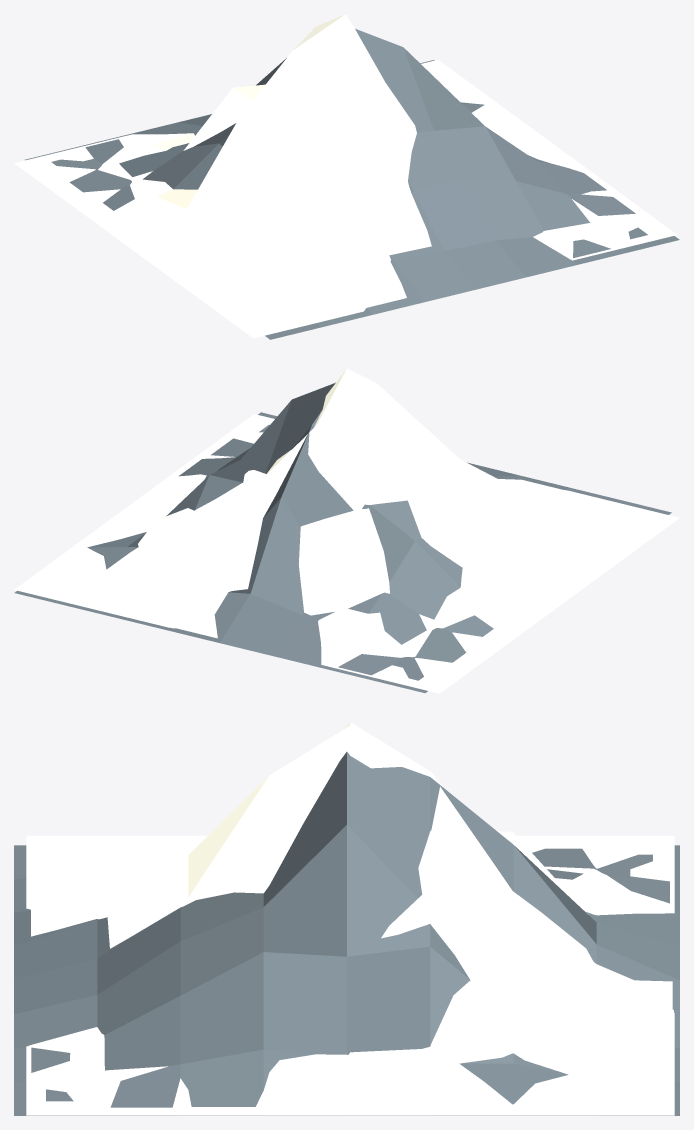
Rendered from MountainAsset3.fbx.
3 views of the same model, one above another, from view 1: azimuth 30°, elevation 25°; view 2: azimuth 150°, elevation 25°; view 3: azimuth 270°, elevation 25° (orthographic). The views are drawn at different scales.
Parts seen in each view (by area): view 1: Mountain3; view 2: Mountain3; view 3: Mountain3.
Part boxes in pixels (x1,y1,x2,y2): Mountain3: (14,14,679,339); Mountain3: (14,368,679,693); Mountain3: (14,722,679,1115).
Size of the model in its own units: 368 by 154 by 370.
